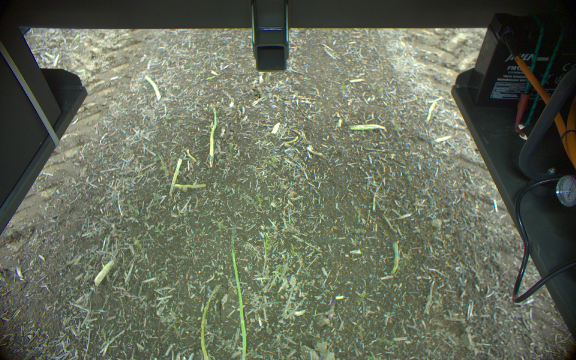aspa: (228, 223, 248, 360), (199, 283, 224, 360), (206, 104, 220, 167), (167, 157, 184, 196), (93, 259, 114, 287), (143, 74, 161, 101), (347, 122, 387, 133), (174, 179, 208, 191), (389, 239, 400, 274)
